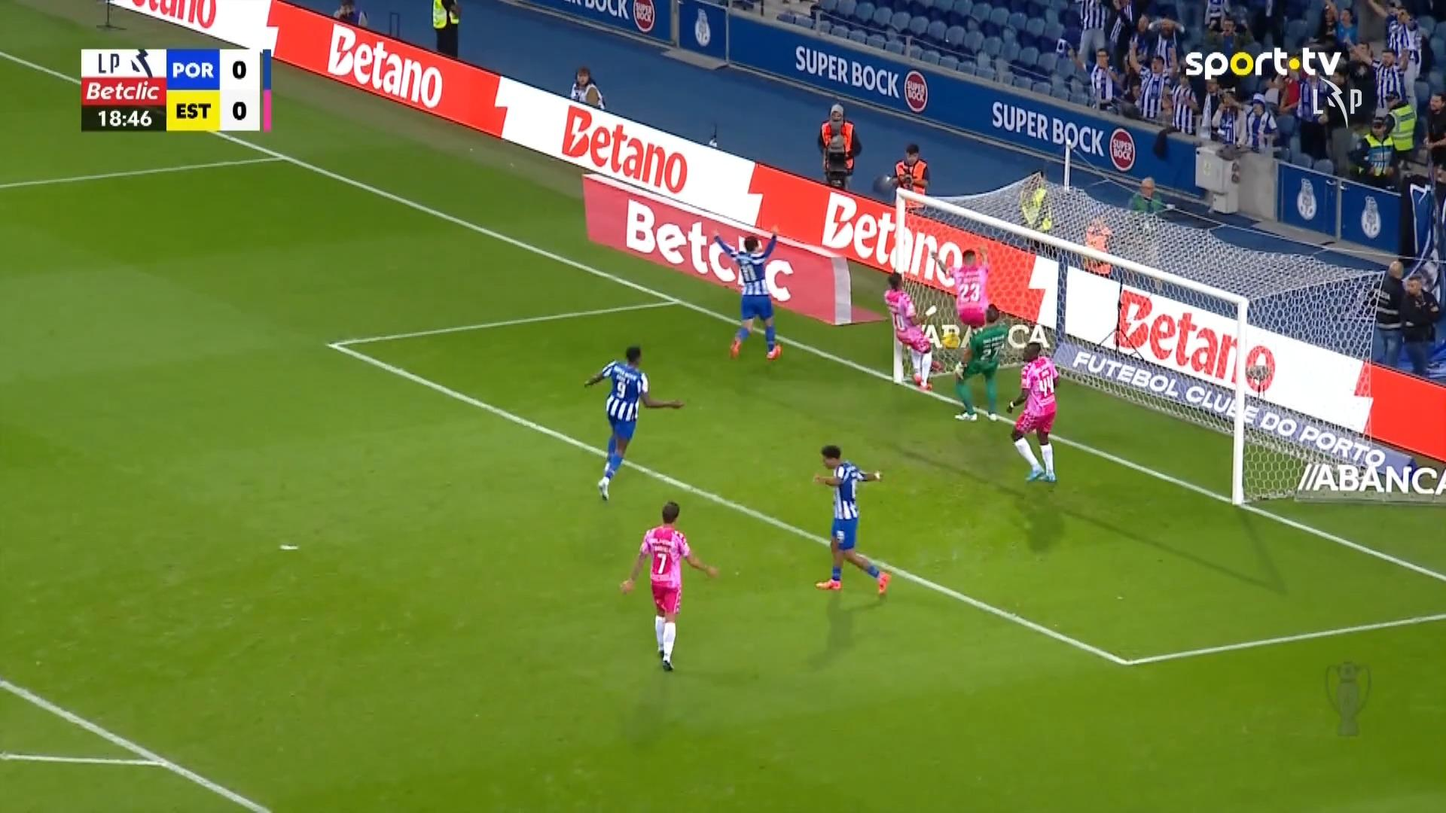player: (619, 501, 718, 671), (582, 344, 685, 501), (811, 443, 891, 598), (710, 224, 783, 360), (1005, 340, 1060, 483), (953, 303, 1011, 422), (883, 270, 937, 391), (931, 243, 996, 336)
